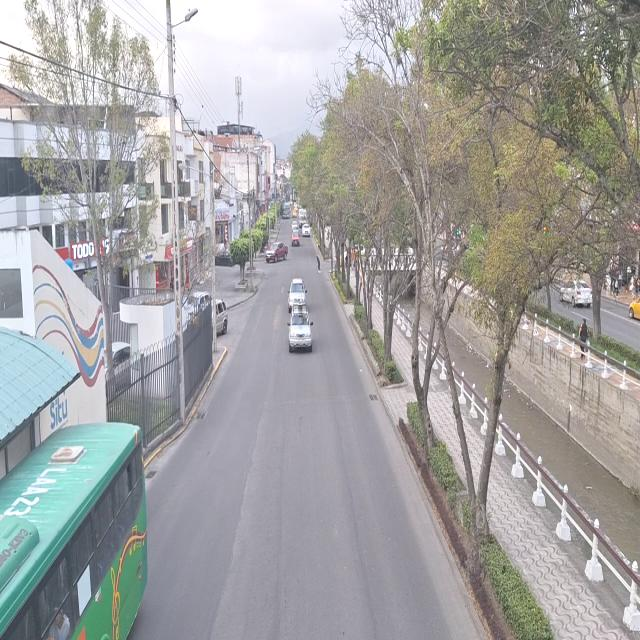BUS: (0, 428, 140, 640)
CMT: (268, 242, 288, 262)
